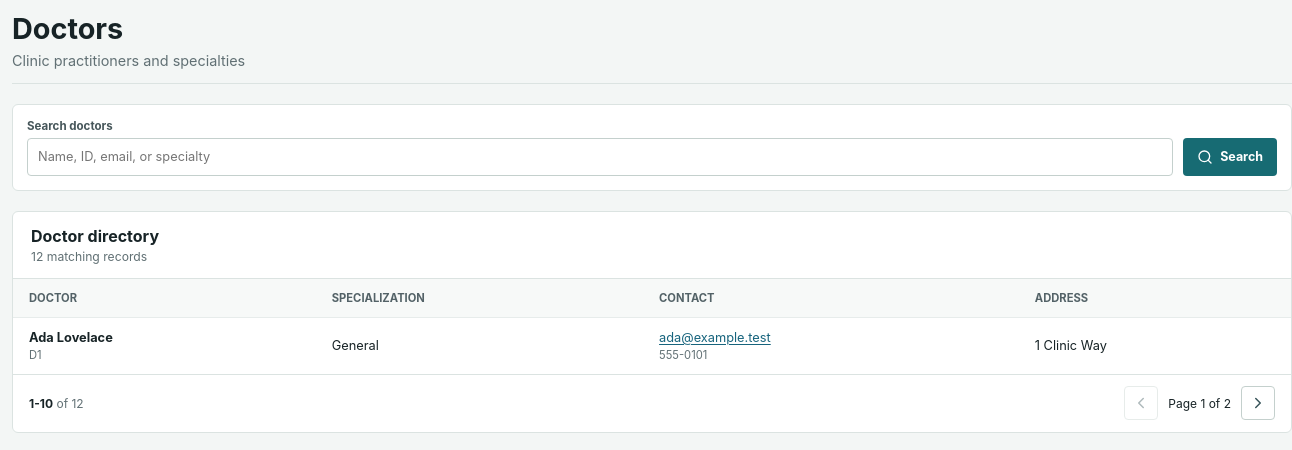
Scenario: DoctorsPage › requests the next bounded page
Expected: the text "Ada Lovelace" is shown, [29,330,113,344]
Click the button named "Next page": (1258, 403) [1241,386,1275,420]
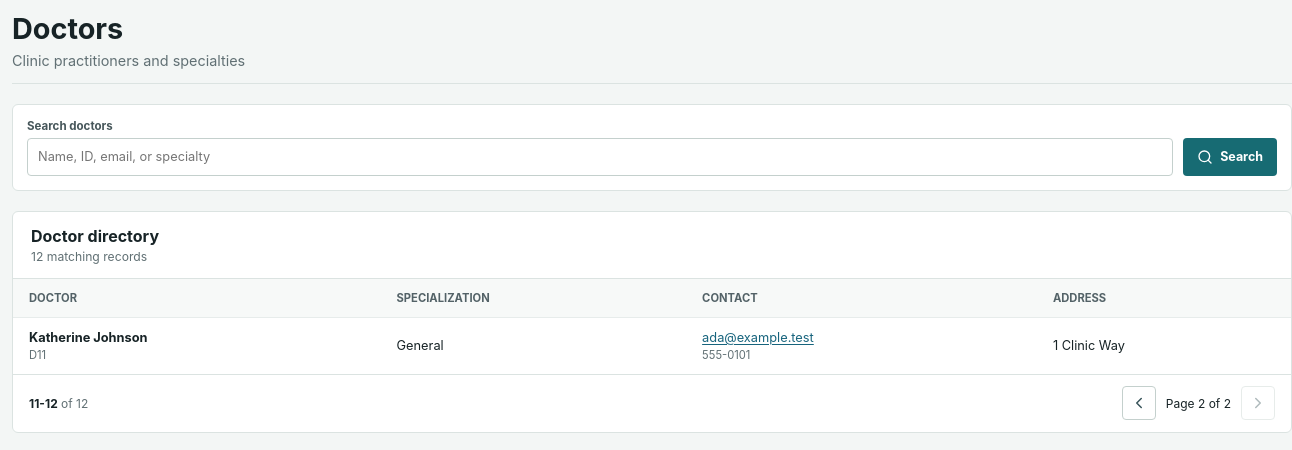
Expected: the text "Katherine Johnson" is shown, [29,330,148,344]
